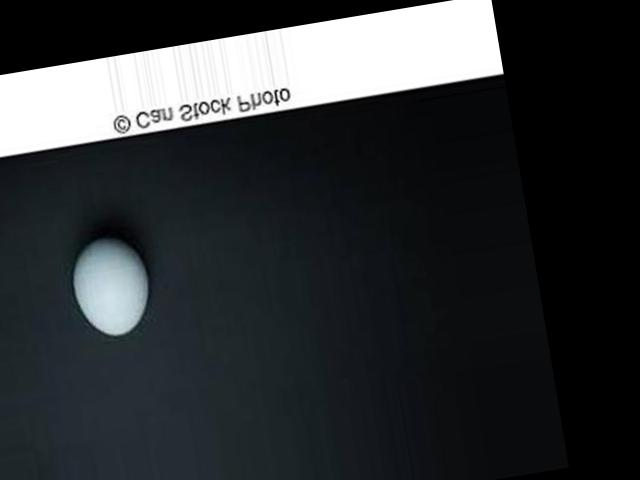egg: (65, 232, 155, 341)
